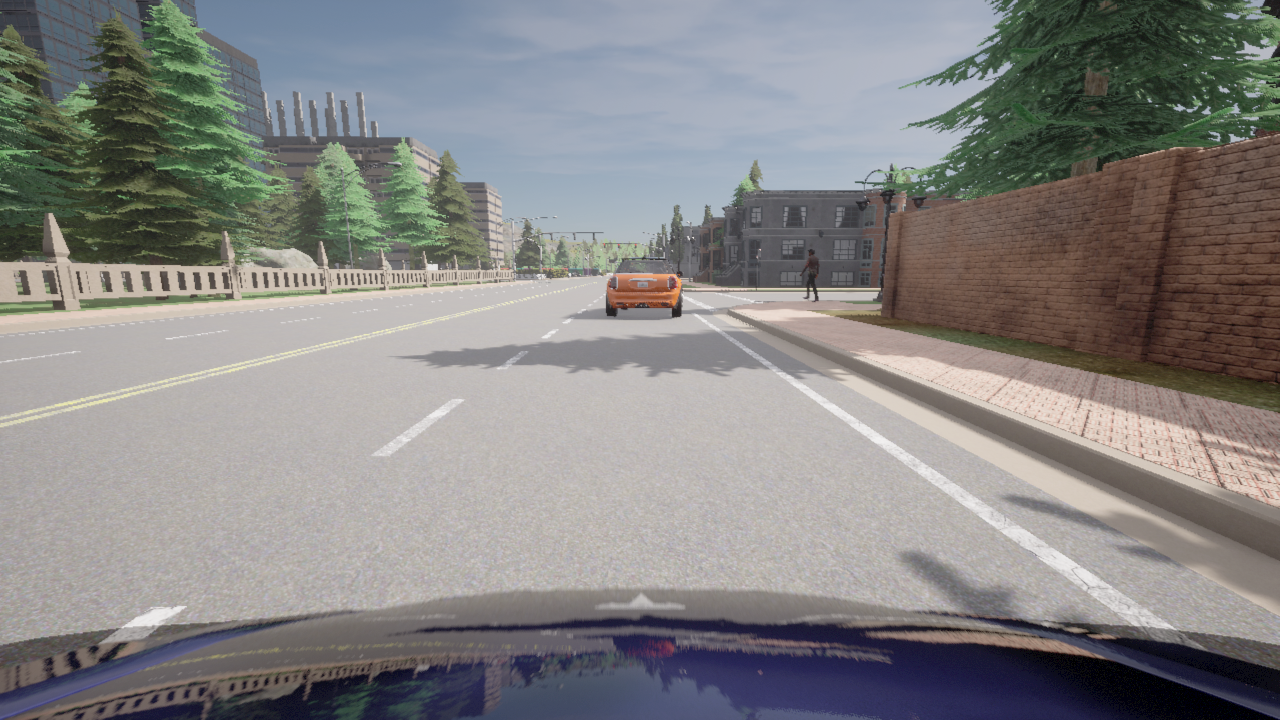cyclist: (0, 588, 1279, 719), (605, 253, 683, 316), (574, 272, 579, 275), (569, 272, 573, 275)
pedestrian: (800, 249, 818, 301)
